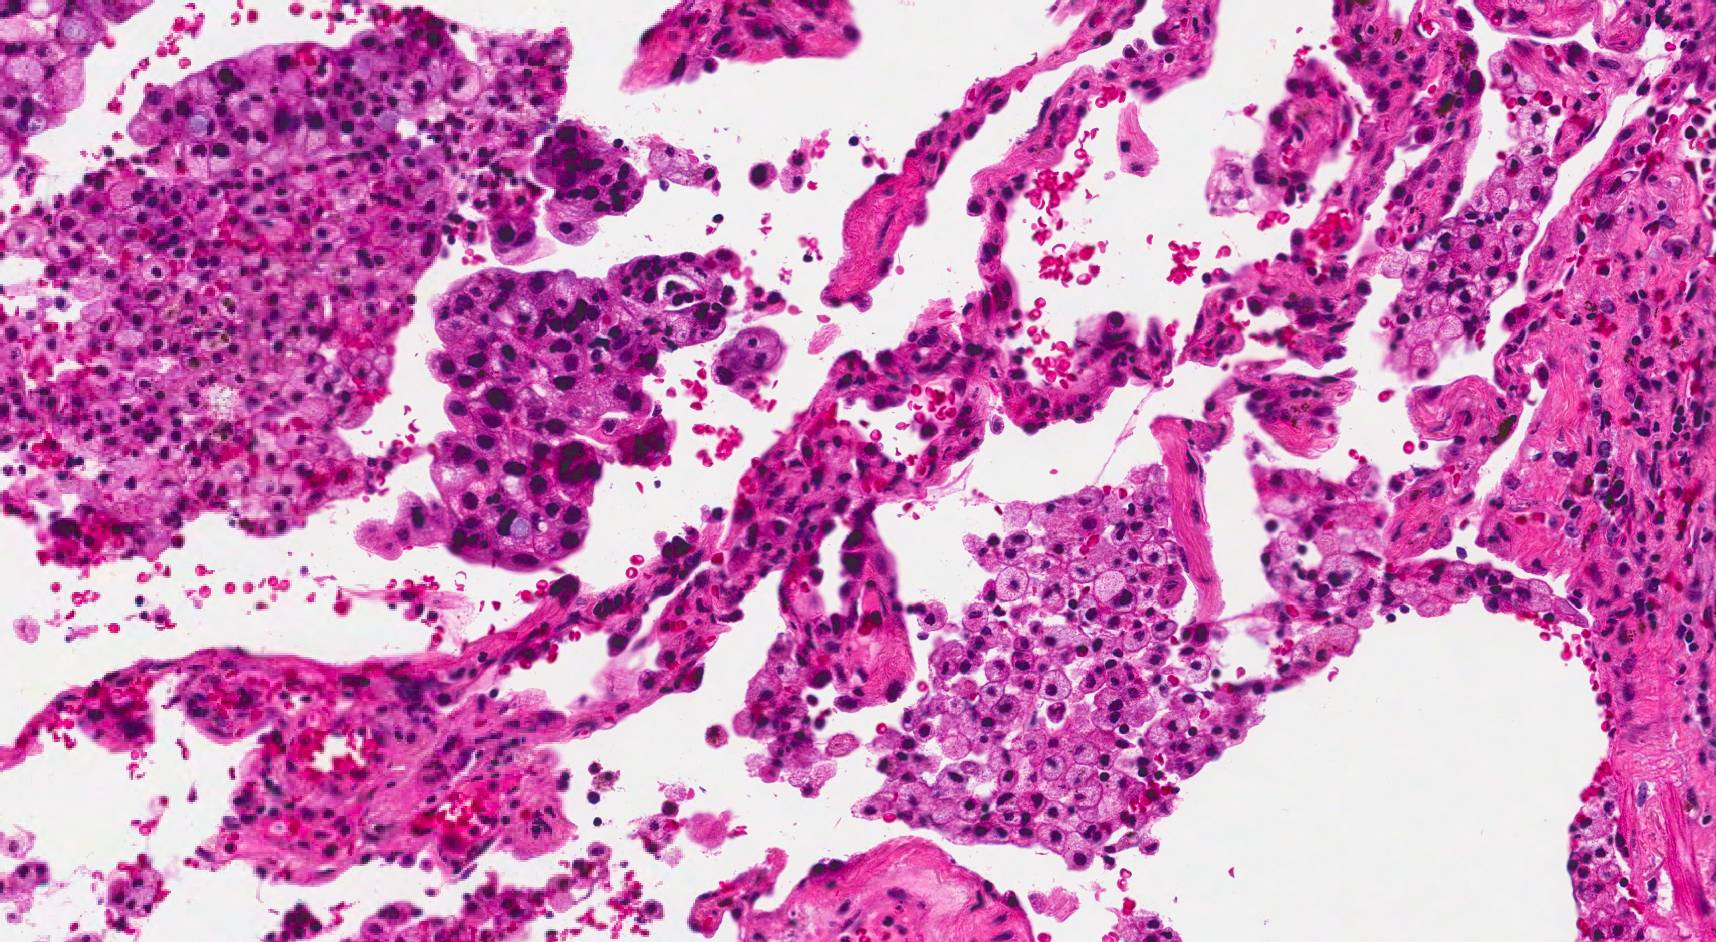stas: (351, 249, 741, 572), (123, 20, 482, 181), (530, 118, 644, 245), (713, 327, 787, 388)
